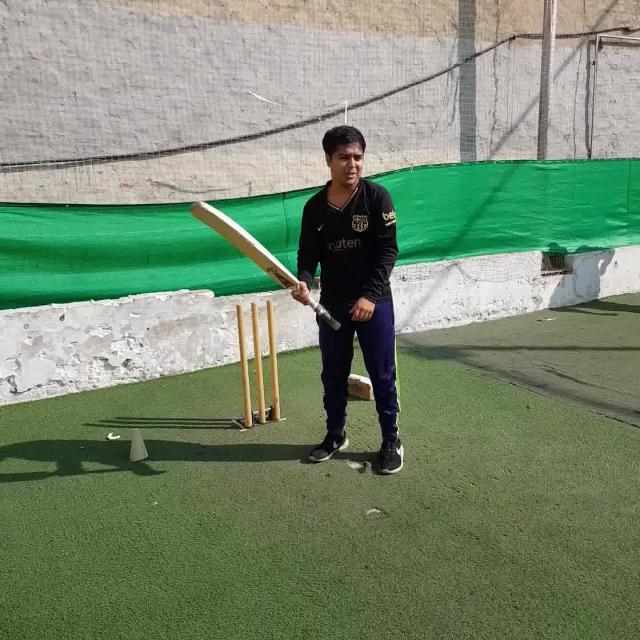bat: (190, 201, 340, 332)
